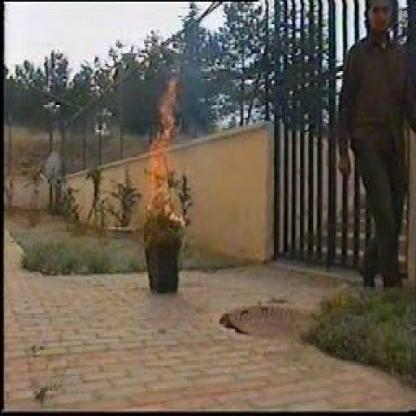foggia-v2-map80-epoch100 - v1 4323: (146, 73, 178, 204)
